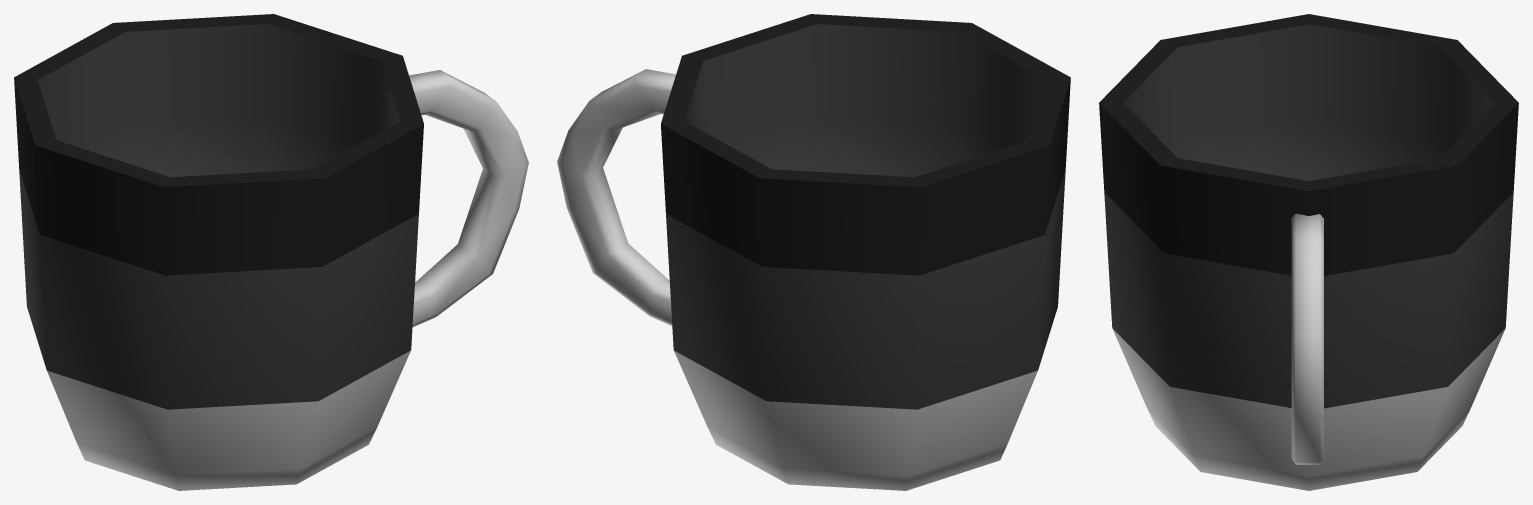
The model's file is Coffee_Cup_09.FBX.
The picture shows the model from 3 angles, left to right: view 1: azimuth 30°, elevation 25°; view 2: azimuth 150°, elevation 25°; view 3: azimuth 270°, elevation 25°; orthographic projection.
Parts seen in each view (by area): view 1: Coffee Cup; view 2: Coffee Cup; view 3: Coffee Cup.
Part boxes in pixels (x1,y1,x2,y2): Coffee Cup: (14,14,528,490); Coffee Cup: (557,14,1070,490); Coffee Cup: (1099,14,1518,490).
Size of the model in its own units: 44.01 by 28.24 by 33.22.
